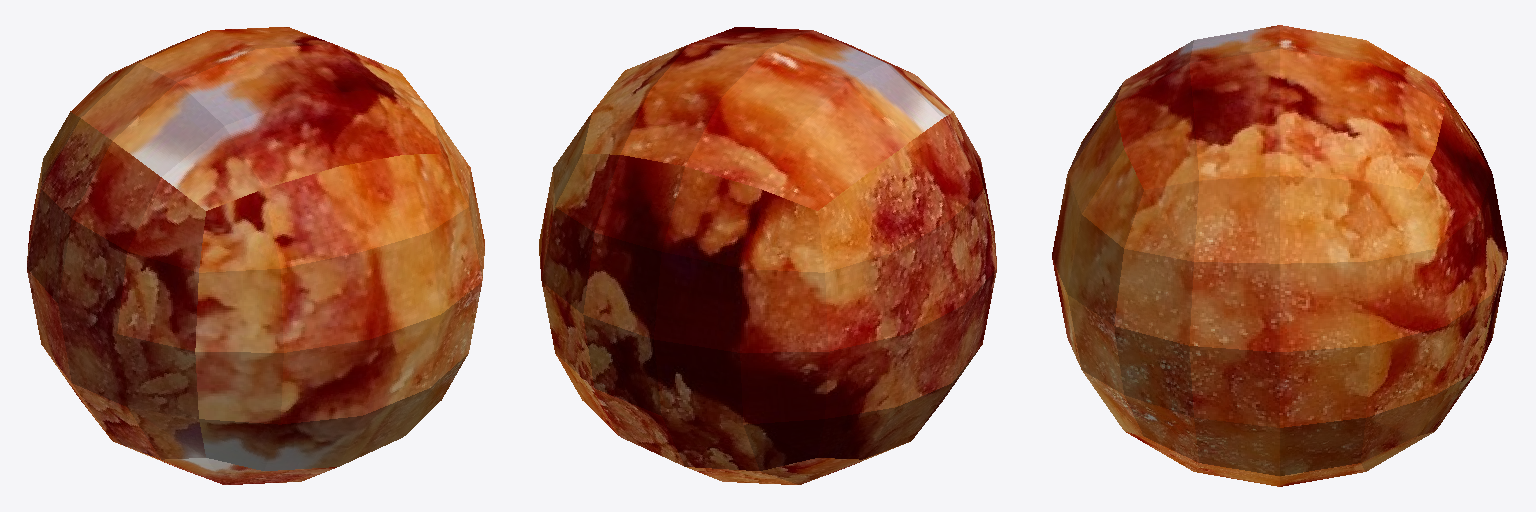
3 views of the same model, side by side, from view 1: azimuth 30°, elevation 25°; view 2: azimuth 150°, elevation 25°; view 3: azimuth 270°, elevation 25° (orthographic).
Visible parts, largest first — view 1: Cube; view 2: Cube; view 3: Cube.
Boxes of the visible parts, x1=… form: Cube: x1=27, y1=27, x2=484, y2=484; Cube: x1=539, y1=27, x2=996, y2=484; Cube: x1=1052, y1=25, x2=1507, y2=486.
Bounding box in the file's own units: 83.95 × 83.95 × 83.95.
Materials: 1 (1 with a texture image).